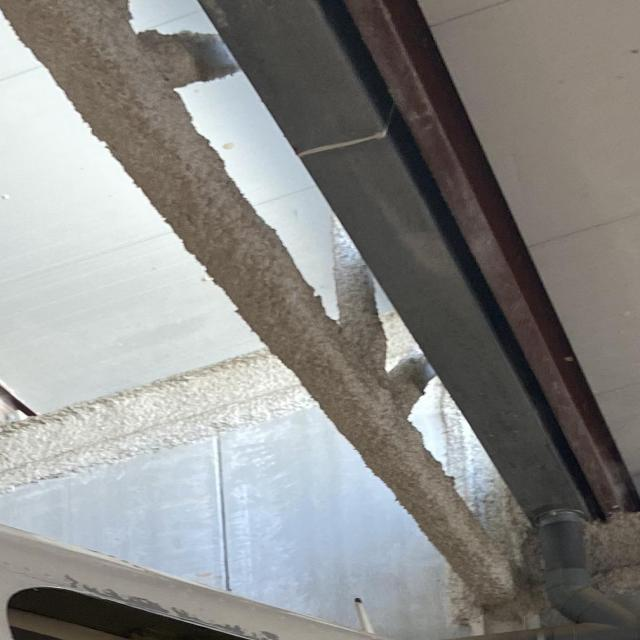Paint-off: (168, 607, 270, 639), (81, 584, 169, 615), (57, 569, 84, 589), (256, 629, 287, 640)
